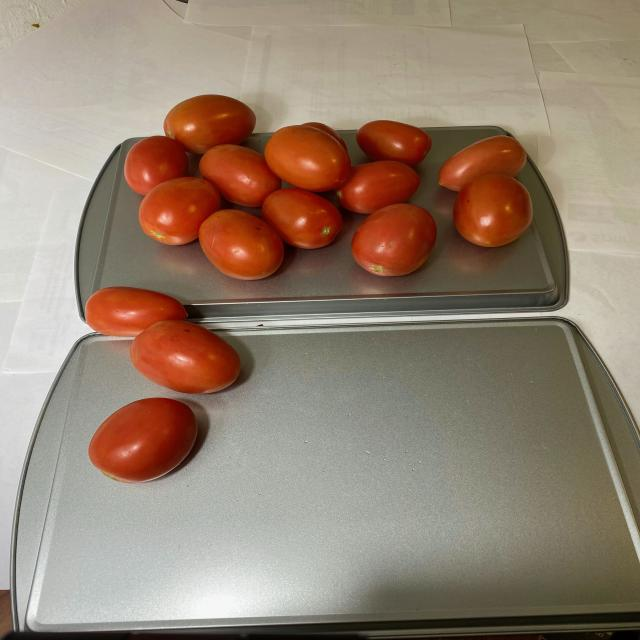tomato: (117, 93, 541, 284), (81, 287, 242, 493)
